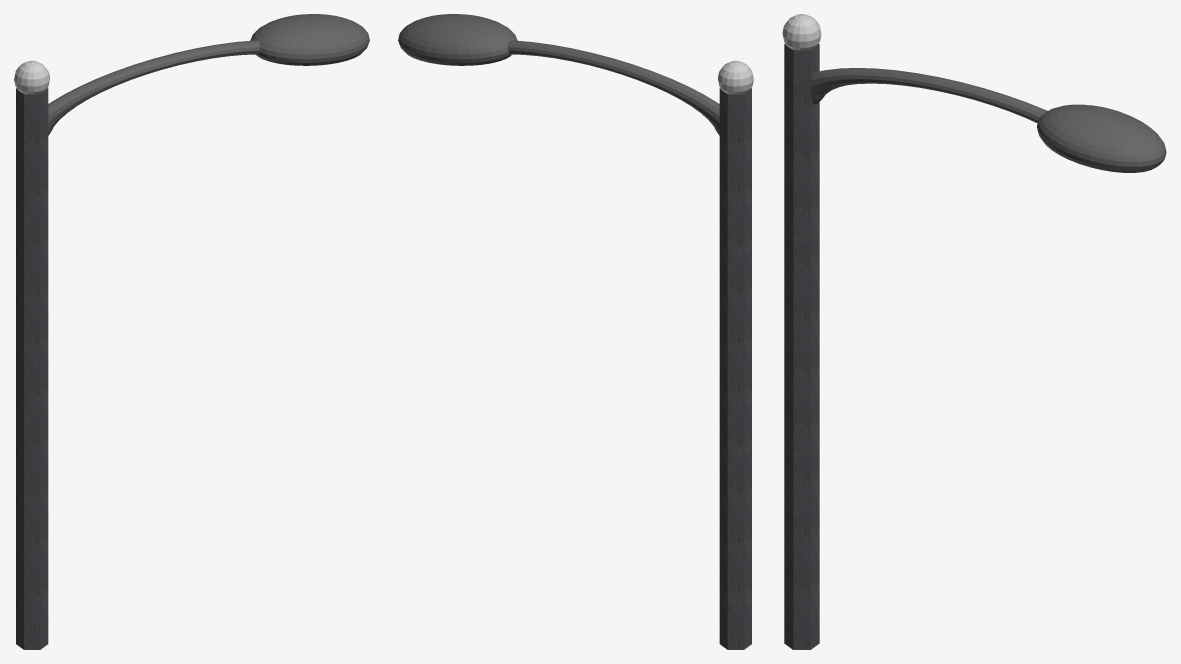
File: StreetLamp.obj
3 renders of one model, left to right at view 1: azimuth 30°, elevation 25°; view 2: azimuth 150°, elevation 25°; view 3: azimuth 330°, elevation 25°, orthographic. The views are drawn at different scales.
Parts seen in each view (by area): view 1: Pole_Cylinder, LightPart_Sphere, Torus.001, Sphere_Sphere.001; view 2: Pole_Cylinder, LightPart_Sphere, Torus.001, Sphere_Sphere.001; view 3: Pole_Cylinder, LightPart_Sphere, Torus.001, Sphere_Sphere.001.
Part boxes in pixels (x1,y1,x2,y2): Pole_Cylinder: (16,88,48,649); LightPart_Sphere: (250,14,369,65); Torus.001: (48,40,260,135); Sphere_Sphere.001: (14,60,49,94); Pole_Cylinder: (719,88,751,649); LightPart_Sphere: (398,14,517,65); Torus.001: (507,40,719,135); Sphere_Sphere.001: (718,60,753,94); Pole_Cylinder: (784,43,819,649); LightPart_Sphere: (1037,104,1166,172); Torus.001: (810,68,1047,123); Sphere_Sphere.001: (782,14,821,50).
Size of the model in its own units: 9.13 by 14.53 by 2.
4 materials, 1 textured.
